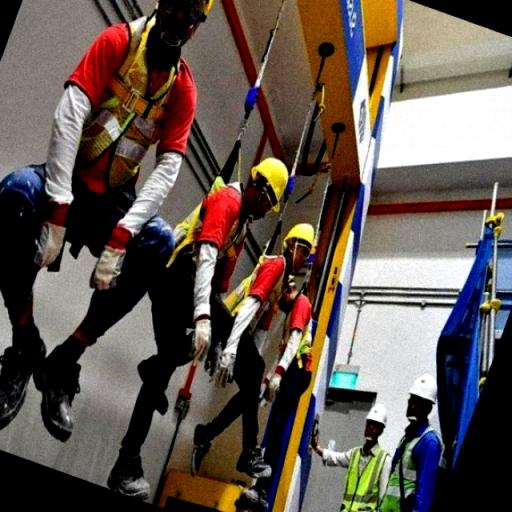Person: (0, 0, 202, 421), (201, 202, 321, 485), (394, 365, 464, 512), (329, 365, 398, 512)
boots: (36, 360, 84, 444), (96, 468, 166, 512), (185, 419, 225, 485), (0, 354, 33, 428), (236, 442, 274, 482)
gloves: (174, 314, 220, 364), (34, 219, 72, 270), (203, 350, 249, 388), (82, 247, 128, 284), (255, 368, 285, 406)
goggles: (146, 53, 207, 67)
helmet: (244, 154, 284, 206), (281, 212, 322, 251), (406, 372, 440, 406), (351, 399, 392, 424)
vest: (76, 16, 182, 222), (156, 180, 252, 302), (224, 250, 292, 340), (394, 420, 449, 512), (341, 441, 394, 512)
